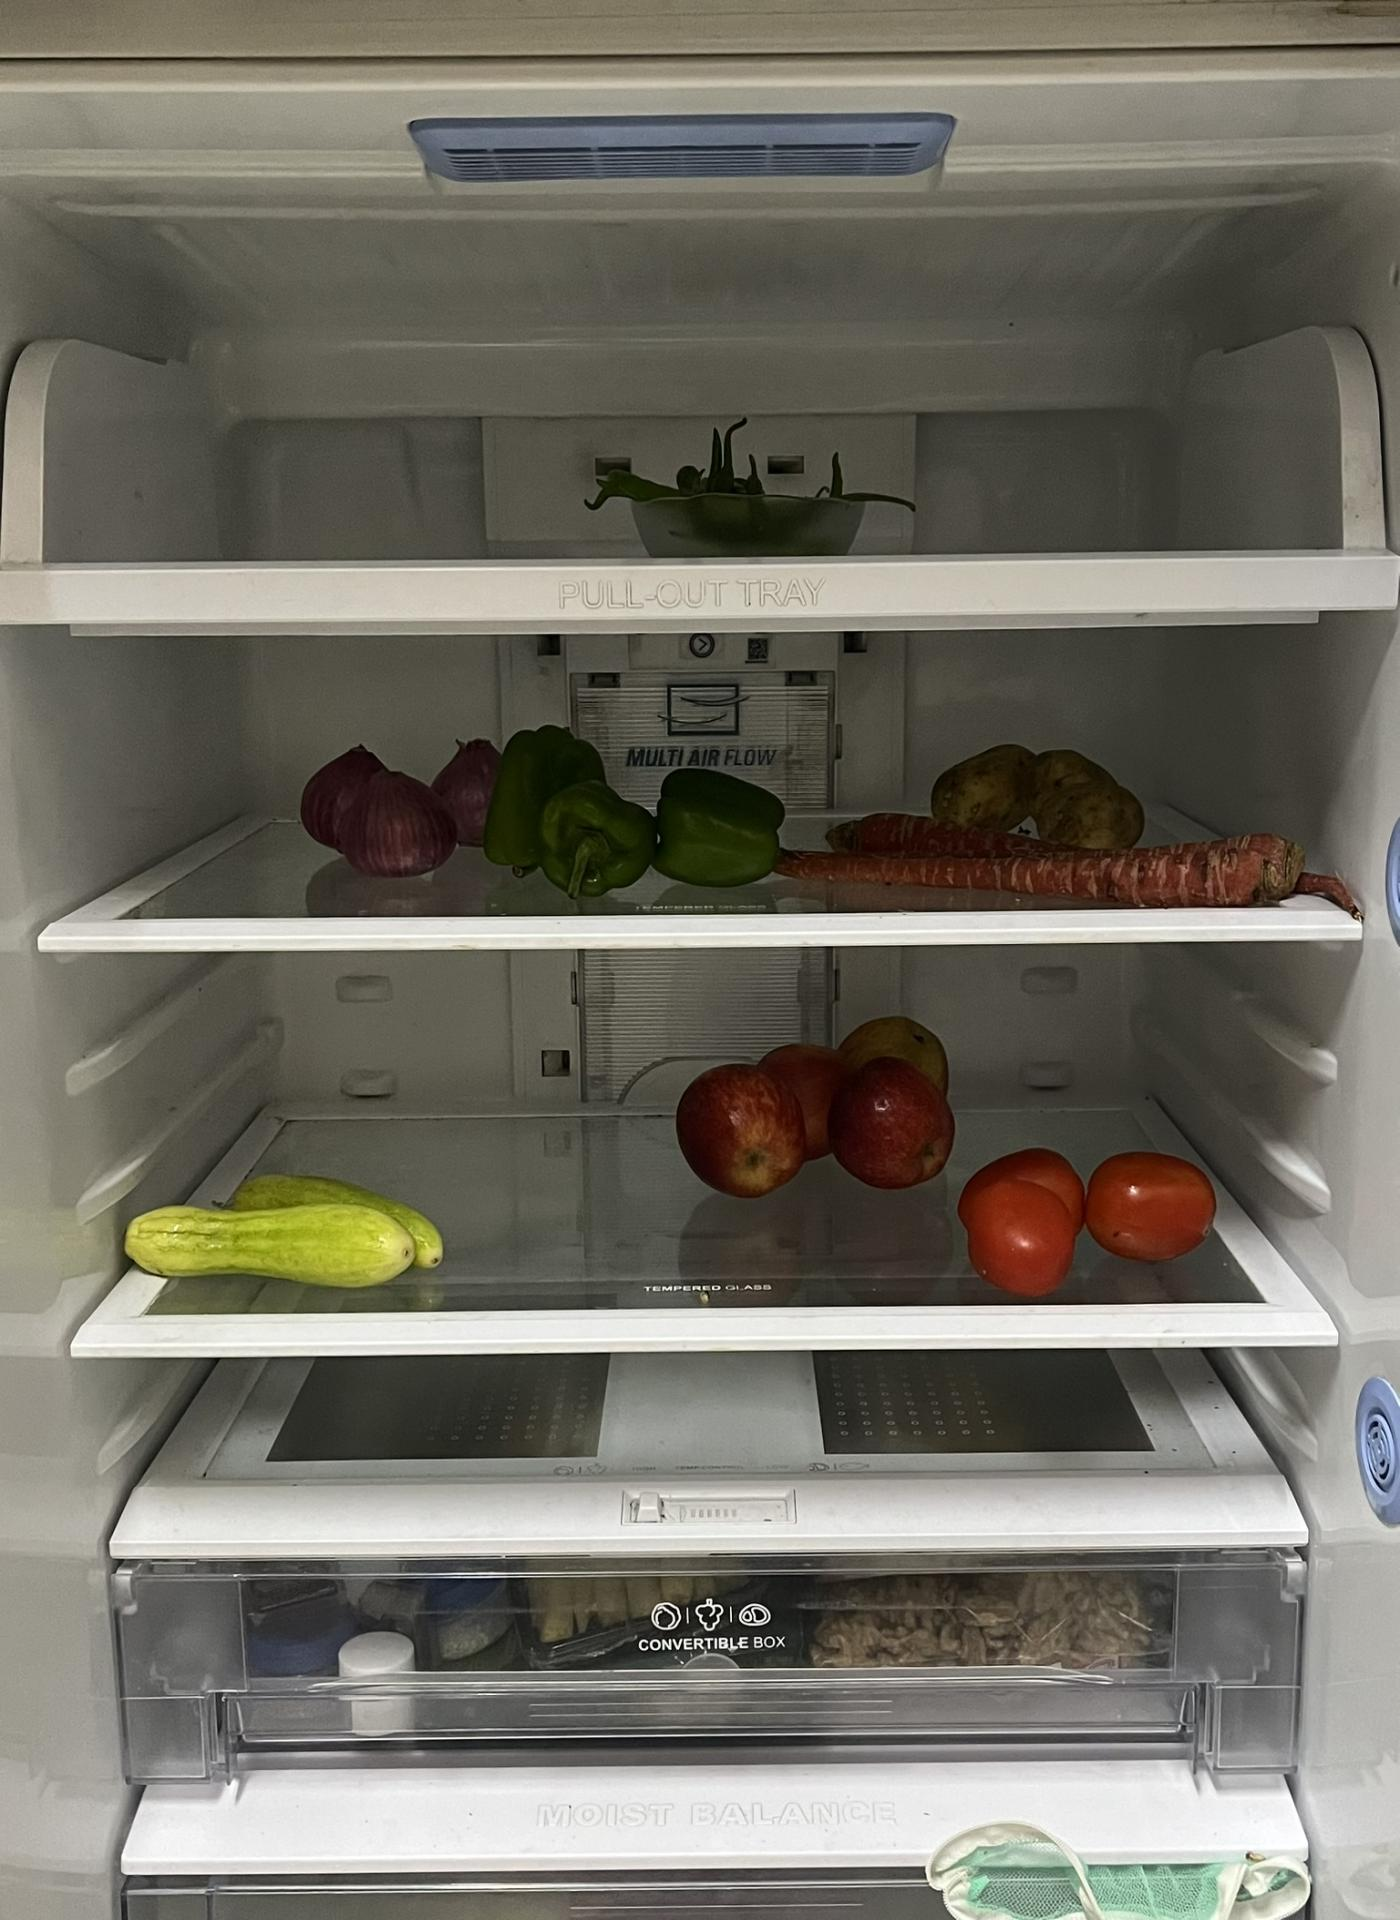apple: (674, 1011, 953, 1196)
capsicum: (480, 733, 787, 899)
carrots: (768, 803, 1328, 911)
chillies: (604, 425, 866, 544)
cucumber: (128, 1173, 455, 1289)
onion: (304, 741, 499, 881)
potato: (935, 745, 1148, 851)
tomato: (960, 1143, 1217, 1285)
